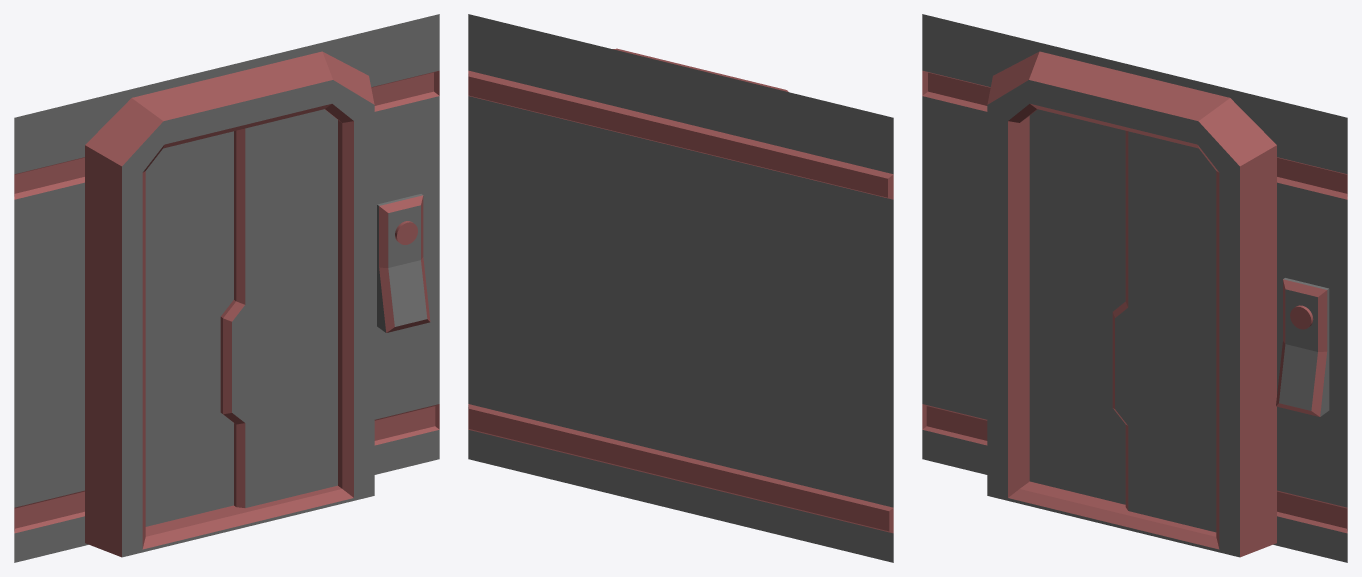
Rendered from SM_Module_Door.fbx.
The picture shows the model from 3 angles, left to right: view 1: azimuth 30°, elevation 25°; view 2: azimuth 150°, elevation 25°; view 3: azimuth 330°, elevation 25°; orthographic projection.
Parts seen in each view (by area): view 1: pCube7; view 2: pCube7; view 3: pCube7.
Part boxes in pixels (x1=…): pCube7: x1=14, y1=14, x2=439, y2=562; pCube7: x1=468, y1=14, x2=893, y2=562; pCube7: x1=922, y1=14, x2=1347, y2=562.
Bounding box in the file's own units: 300 × 300 × 29.31.
